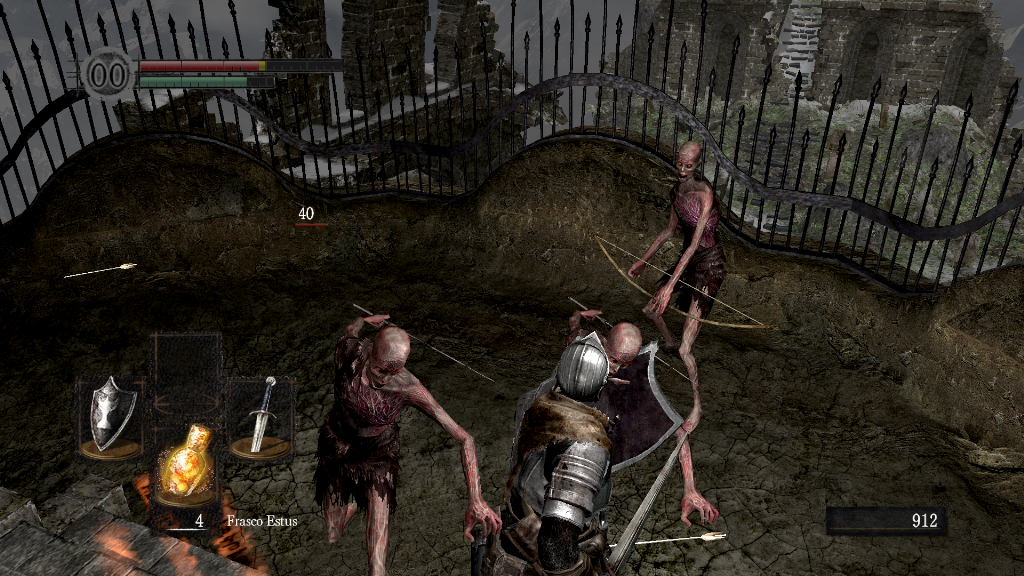health: (138, 58, 343, 71)
hollow: (307, 298, 503, 576), (595, 141, 778, 435), (565, 299, 719, 526)
humanity: (80, 45, 136, 102)
player: (468, 329, 685, 576)
souls: (825, 506, 945, 536)
stamina: (138, 74, 274, 88)
